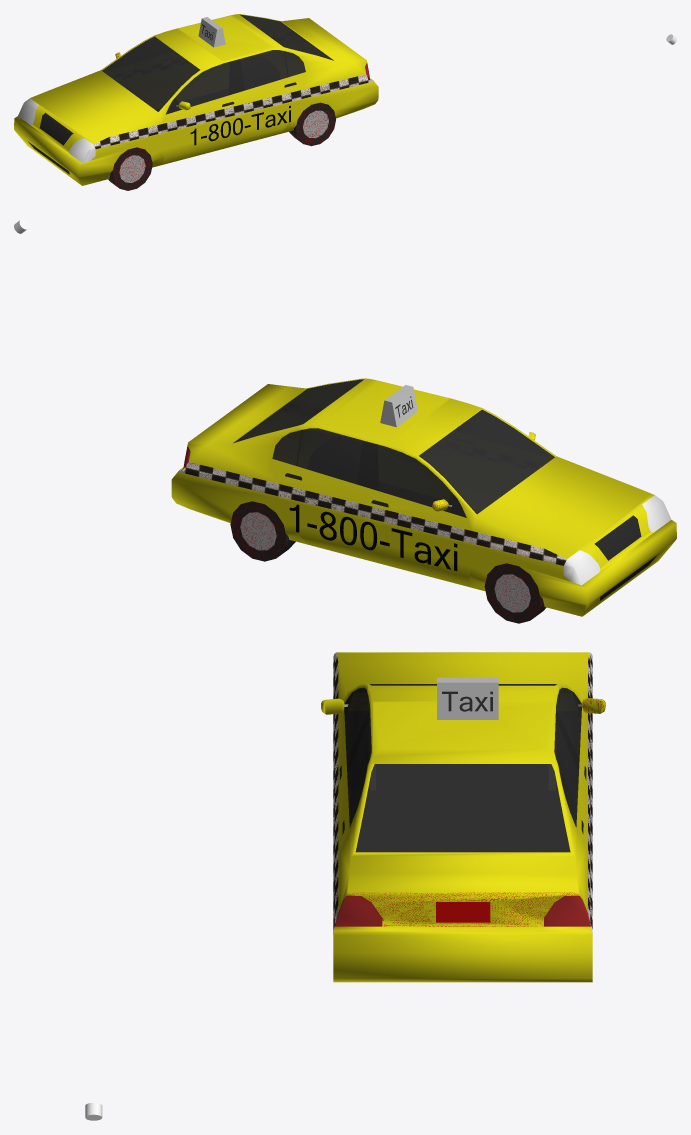
The model's file is taxiNew.dae.
The picture shows the model from 3 angles, top to bottom: view 1: azimuth 30°, elevation 25°; view 2: azimuth 150°, elevation 25°; view 3: azimuth 270°, elevation 25°; orthographic projection. The views are drawn at different scales.
Parts seen in each view (by area): view 1: TAXI_1 (×12), car_wheel_1 (×3); view 2: TAXI_1 (×12), car_wheel_1 (×2); view 3: TAXI_1 (×13).
Part boxes in pixels (box(x1,y1,x2,y2)): TAXI_1 (×12): box(14, 14, 378, 185); car_wheel_1 (×3): box(108, 102, 335, 190); TAXI_1 (×12): box(171, 378, 676, 616); car_wheel_1 (×2): box(230, 501, 546, 623); TAXI_1 (×13): box(333, 652, 592, 982).
Size of the model in its own units: 338 by 142 by 68.71.
Materials: 11 (1 with a texture image).
